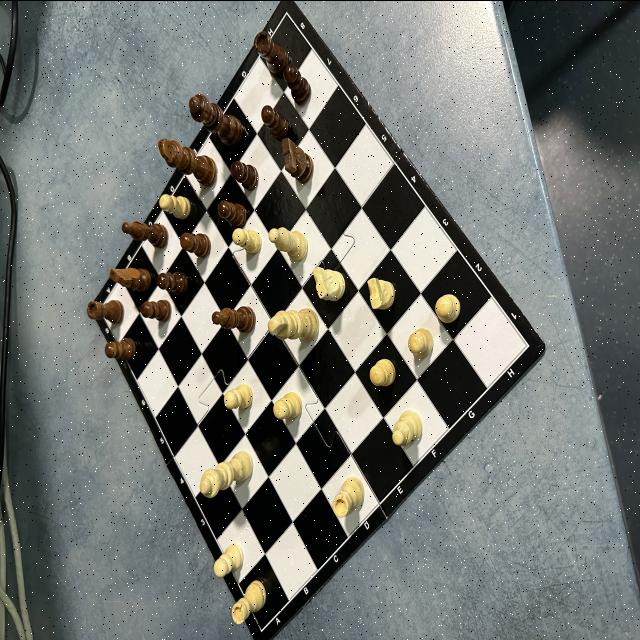Black-Bishop: (120, 220, 168, 248), (211, 306, 255, 331)
Black-King: (158, 138, 216, 185)
Black-Knight: (281, 136, 313, 182), (109, 267, 152, 292)
Black-Pawn: (261, 104, 291, 140), (283, 64, 310, 104), (230, 160, 258, 190), (217, 200, 246, 228), (105, 336, 135, 362), (180, 232, 210, 258), (156, 270, 188, 294), (138, 298, 172, 320)
Black-Queen: (188, 93, 242, 147)
Black-Rook: (254, 31, 286, 73), (86, 300, 124, 324)
White-Bishop: (268, 227, 308, 260), (391, 410, 423, 446)
White-King: (268, 308, 318, 341)
White-Knight: (312, 263, 344, 300), (366, 276, 394, 308)
White-Pawn: (214, 542, 244, 575), (159, 193, 190, 218), (274, 391, 302, 418), (370, 357, 396, 385), (435, 294, 460, 322), (408, 328, 433, 356), (225, 383, 252, 408), (233, 228, 261, 252)
White-Queen: (200, 451, 252, 495)
White-Rook: (232, 579, 266, 623), (332, 476, 364, 516)
